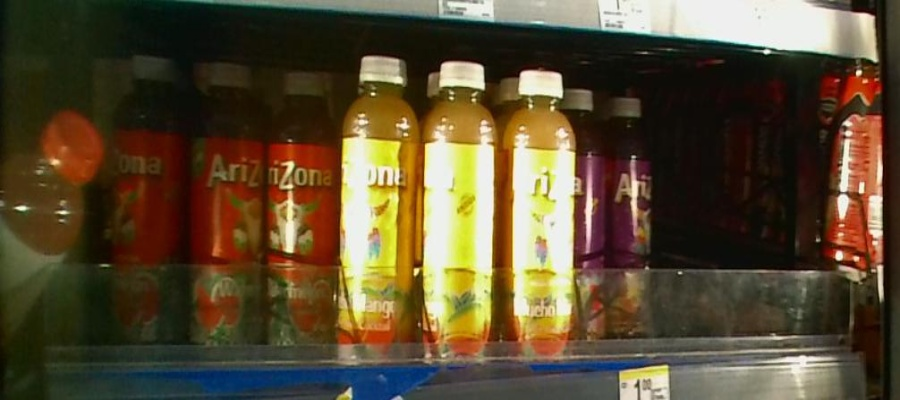bottle: (344, 39, 423, 363), (107, 45, 187, 347), (424, 43, 499, 361), (497, 59, 576, 354), (267, 46, 342, 356), (191, 49, 266, 356), (610, 81, 653, 354), (578, 76, 607, 358)
